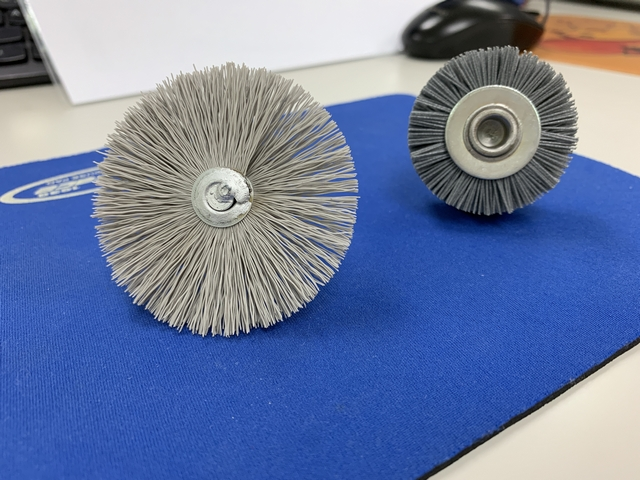TOOL: (90, 63, 364, 348)
Wheel Brush: (406, 28, 589, 231)
